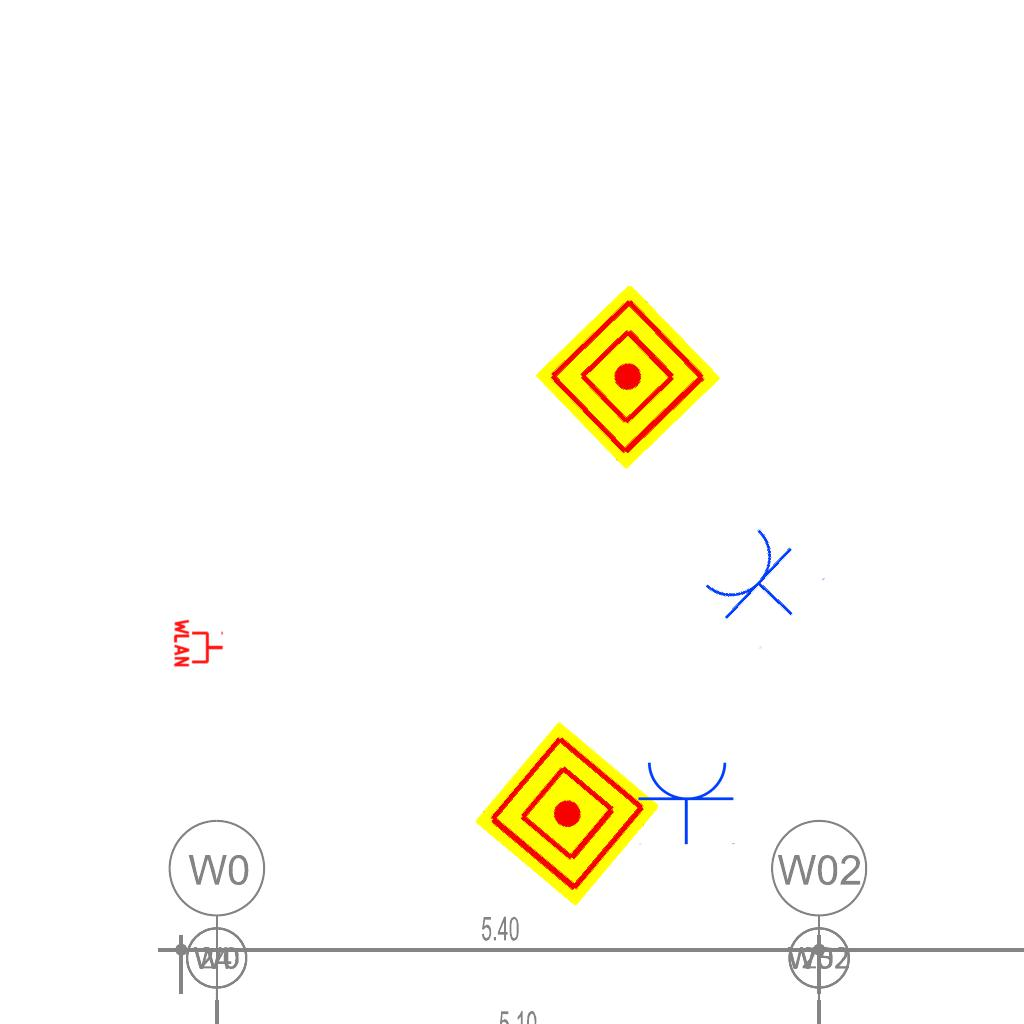NAM-Nichtautomatischer_Melder: (534, 283, 722, 471), (474, 721, 660, 907)
Schukosteckdose_einfach: (695, 518, 827, 651), (637, 758, 737, 845)
WLAN: (173, 617, 225, 669)
